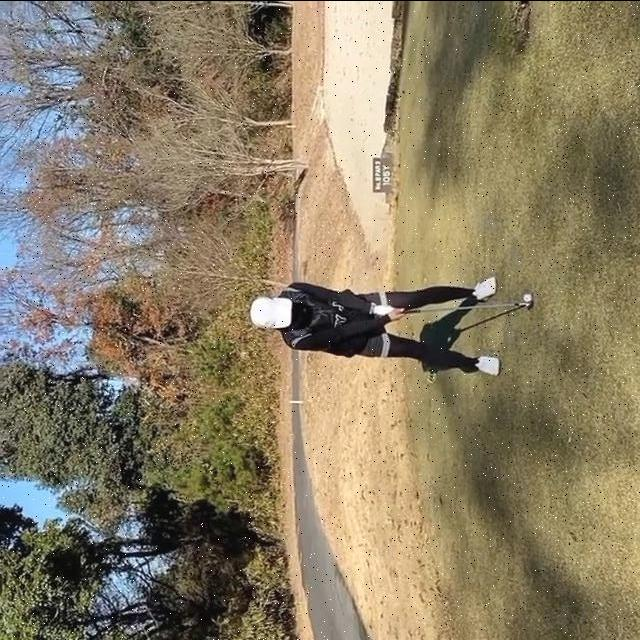ClubHandle: (403, 301, 532, 313)
ClubHead: (525, 301, 532, 308)
GolfBall: (523, 292, 532, 301)
